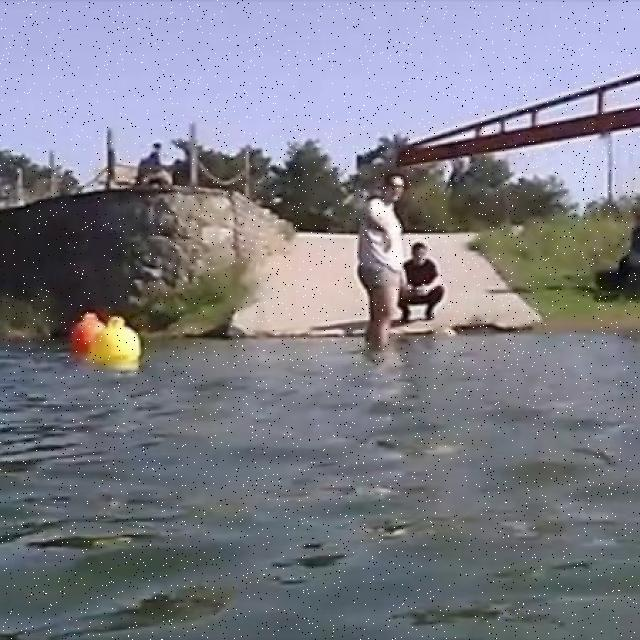buoy: (90, 313, 140, 363), (72, 311, 102, 353)
